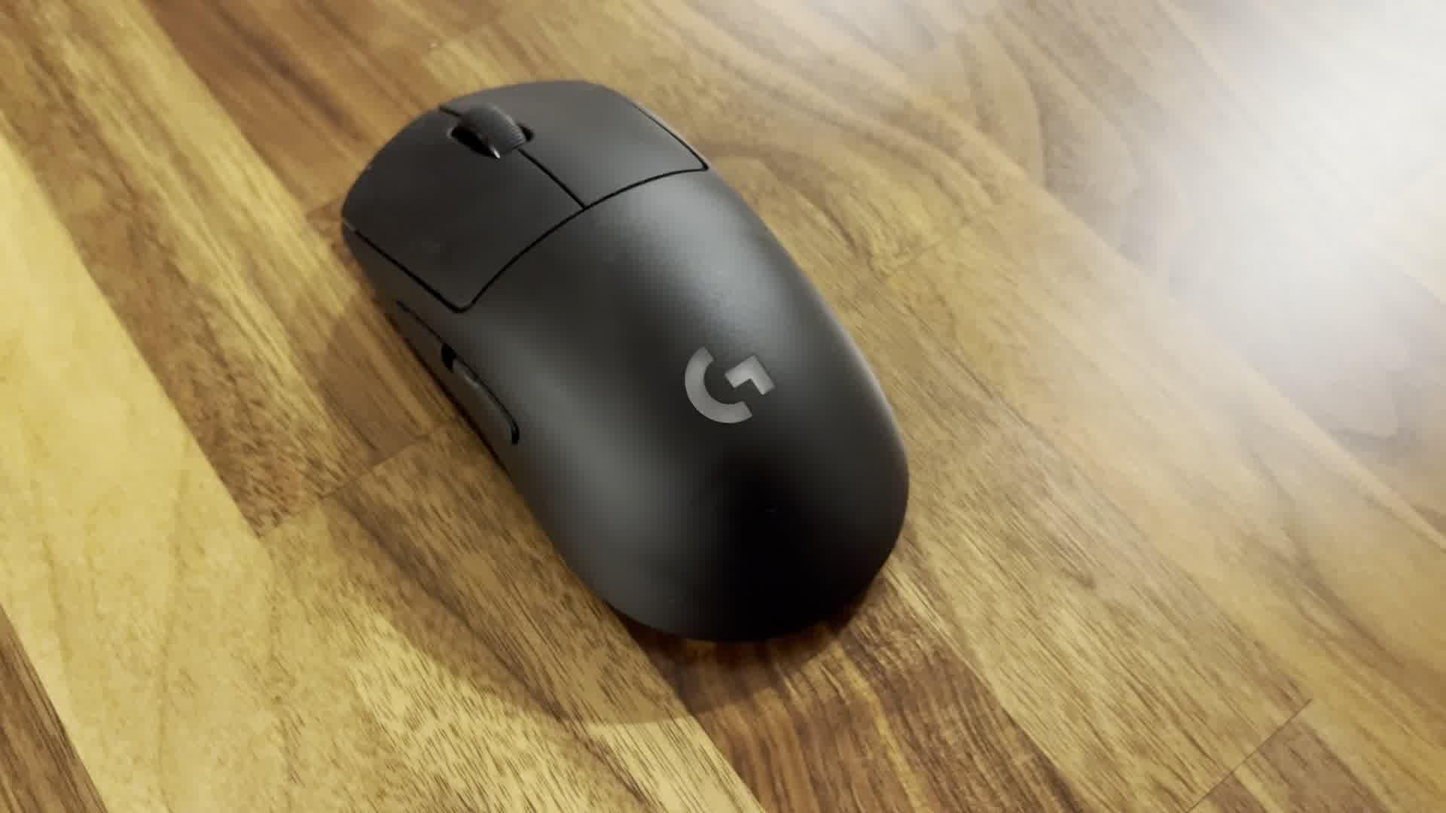mouse: (336, 72, 913, 646)
